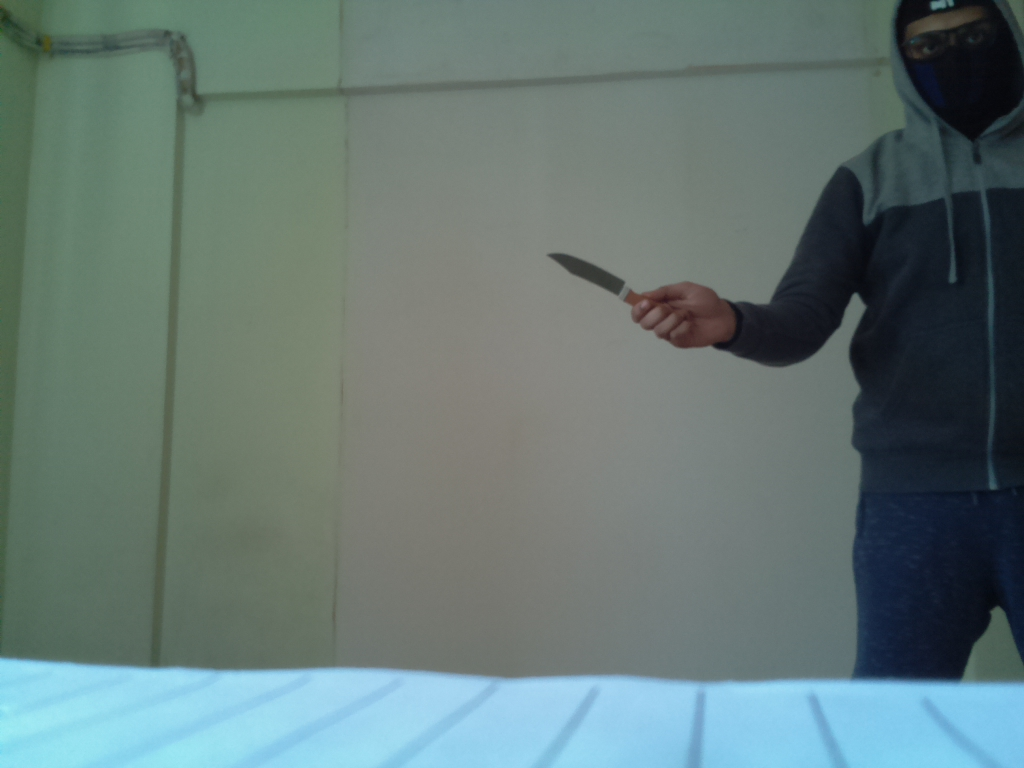knife: (536, 236, 672, 317)
